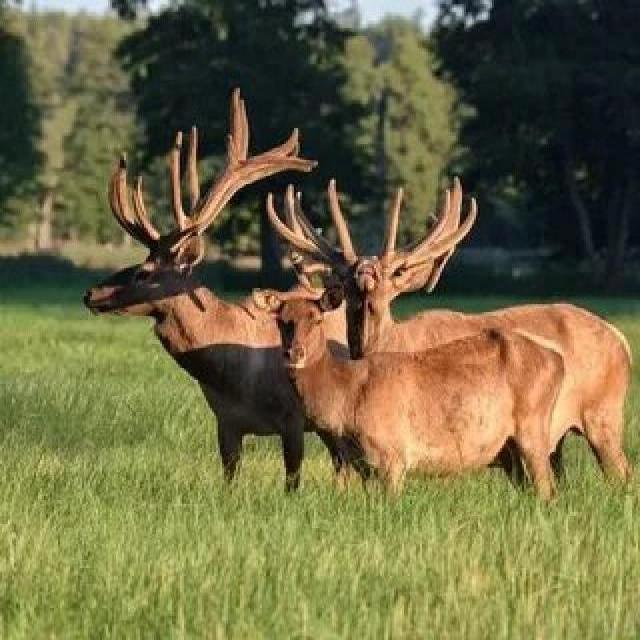deer: (25, 154, 504, 530), (340, 233, 640, 490), (269, 284, 540, 547)
